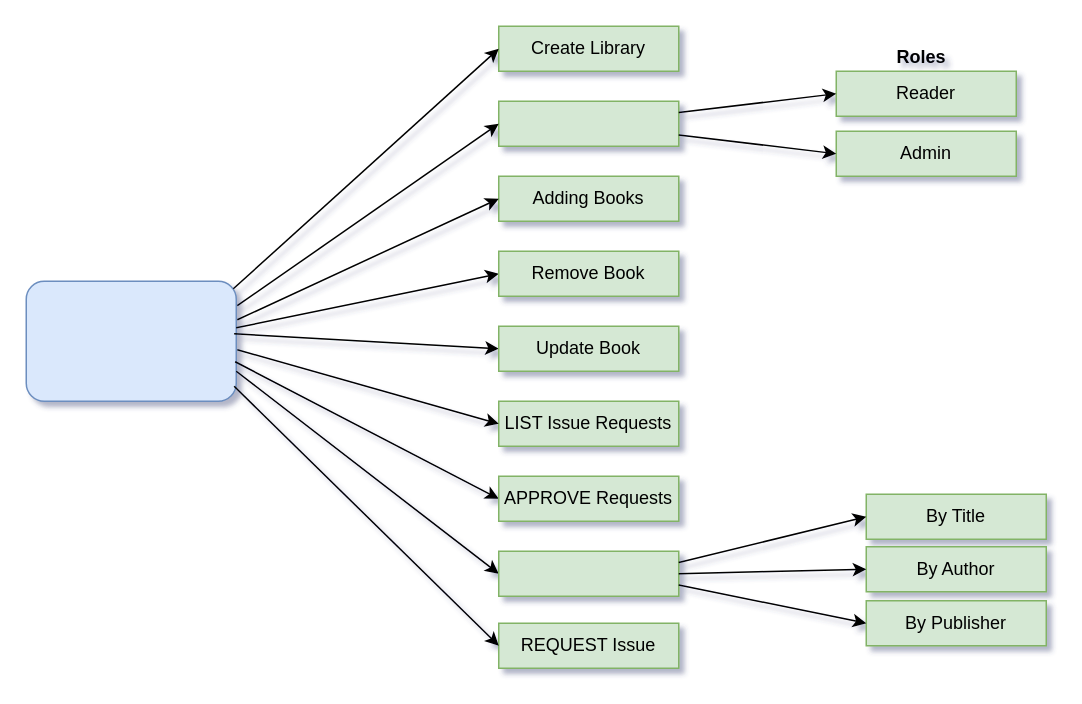
The diagram is 1082 pixels wide and 704 high, and some of its shapes have lost their labels. Here are the shapes that lost their labels. From the top down, the centre of each, then its label:
At [588,123]: "Create User".
At [130,340]: "API".
At [588,573]: "SEARCH Books".
